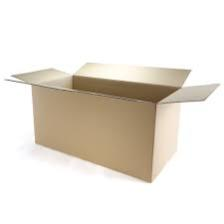cardboard: (15, 50, 200, 195)
